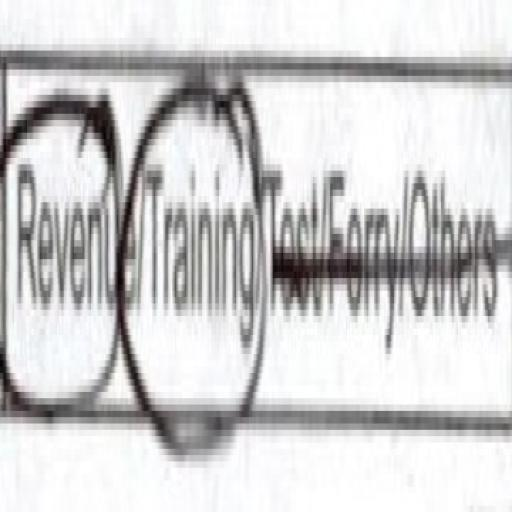check: (0, 0, 134, 460), (143, 7, 263, 510)
